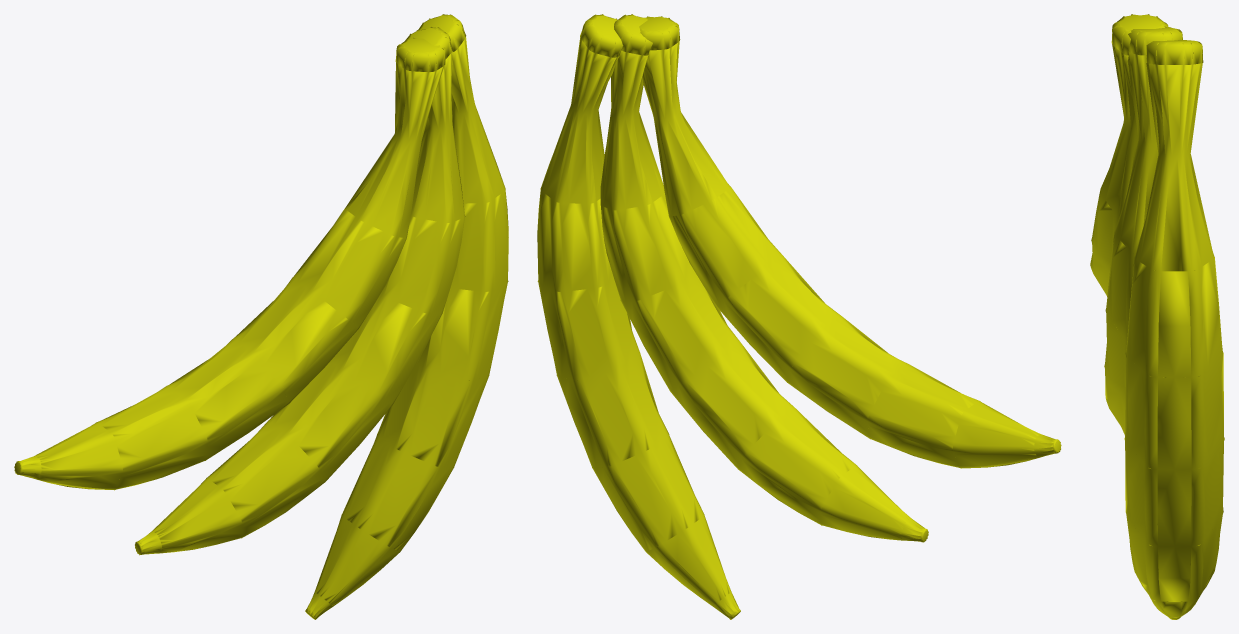
File: Banana.FBX
3 renders of one model, left to right at view 1: azimuth 30°, elevation 25°; view 2: azimuth 150°, elevation 25°; view 3: azimuth 270°, elevation 25°, orthographic. The views are drawn at different scales.
Parts seen in each view (by area): view 1: Cylinder001; view 2: Cylinder001; view 3: Cylinder001.
Boxes of the visible parts, x1=… form: Cylinder001: x1=14, y1=14, x2=508, y2=619; Cylinder001: x1=537, y1=14, x2=1061, y2=619; Cylinder001: x1=1090, y1=14, x2=1224, y2=619.
Bounding box in the file's own units: 39.78 × 43.14 × 8.04.
